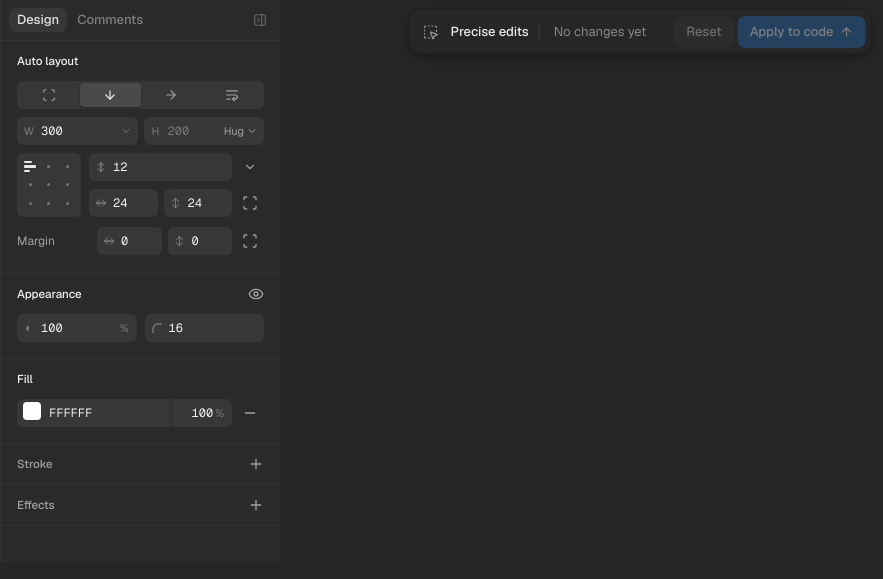
Test: Esc closes a menu, and is taken: the canvas's Esc leaves the selection be
Click the button named "Gap mode".
click(250, 167)  # box [236, 153, 264, 181]
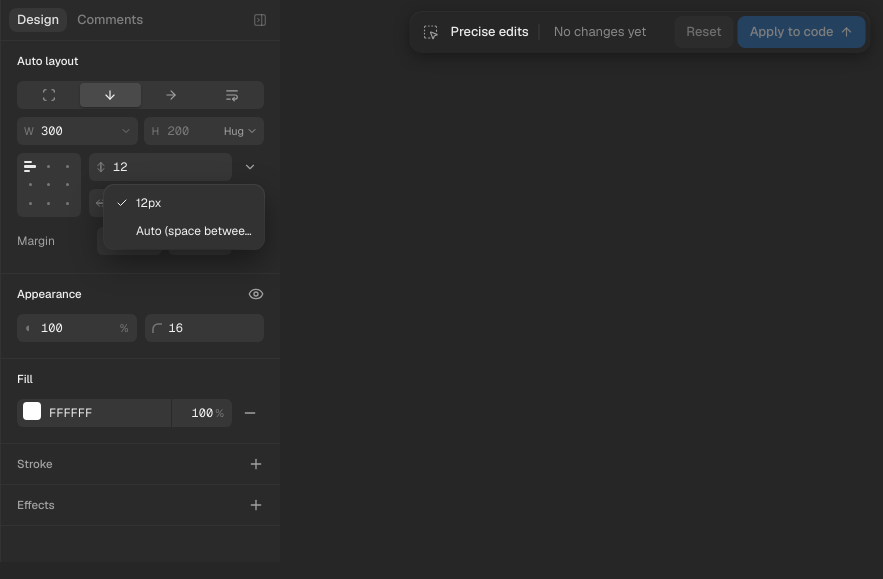
Result: the element that starts with "Precise edits" shows "Auto (space between)" at [108, 217, 260, 245]
Press Escape
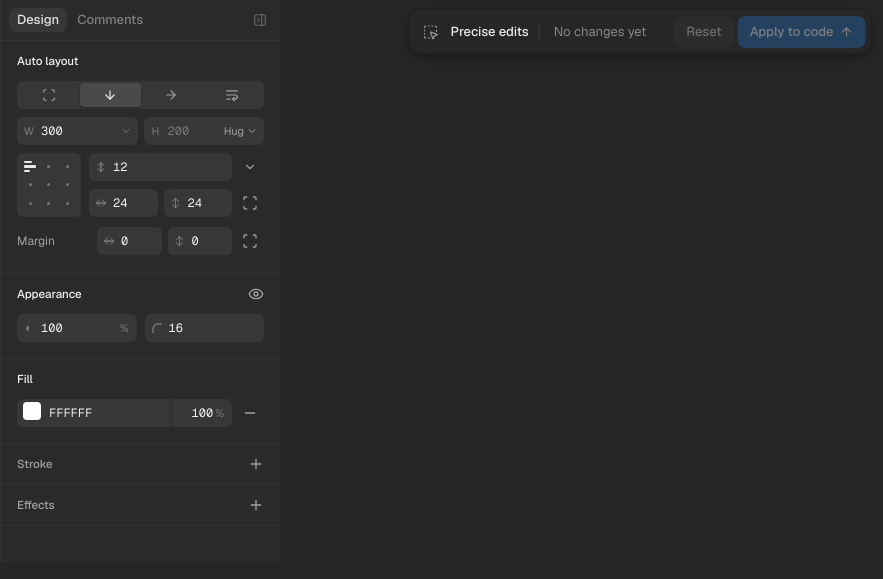
Result: the button "Auto (space between)" no longer shows "Auto (space between)"
